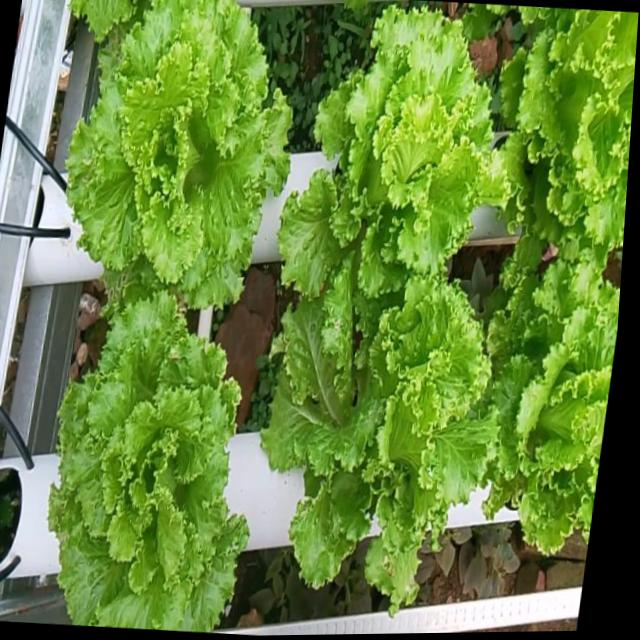Mature: (245, 278, 495, 620), (65, 0, 292, 309), (47, 287, 248, 629), (278, 3, 509, 297), (484, 260, 620, 555), (502, 9, 639, 279)
